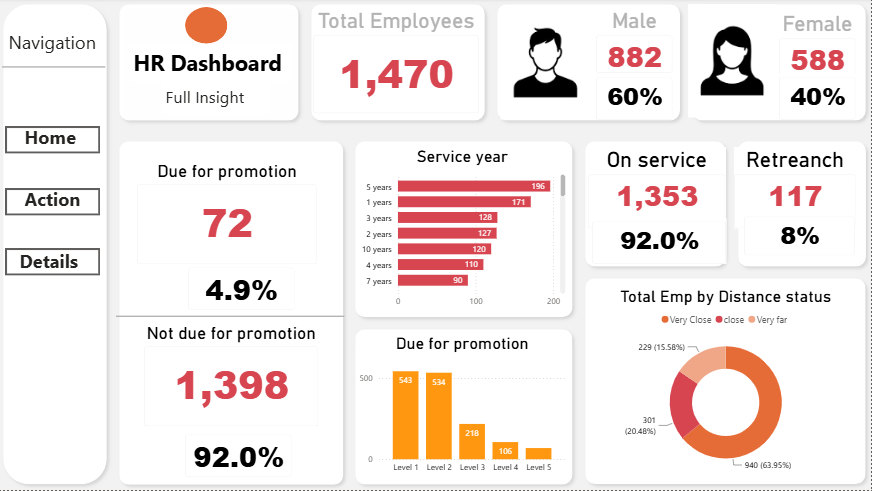

The dashboard page shown, as its layout file describes it:
{"tool":"powerbi","page":{"name":"Home","canvas":[1280,720],"ordinal":0},"visuals":[{"type":"shape","box":[0,0,169.7,720.6],"z":0},{"type":"shape","box":[169.7,0,280.5,188.1],"z":1000},{"type":"shape","box":[450.2,0,272.1,188.1],"z":2000},{"type":"shape","box":[1007.9,0,272.1,188.1],"z":3000},{"type":"shape","box":[722.3,0,285.6,188.1],"z":4000},{"type":"shape","box":[169.7,199.9,346,520.7],"z":5000},{"type":"shape","box":[515.7,199.9,336,275.5],"z":6000},{"type":"shape","box":[515.7,475.4,336,245.2],"z":7000},{"type":"shape","box":[851.7,199.9,223.4,201.6],"z":8000},{"type":"shape","box":[1075.1,199.9,204.9,201.6],"z":9000},{"type":"shape","box":[851.7,401.5,428.3,319.2],"z":10000},{"type":"textbox","box":[194.9,67.2,236.9,55.4],"z":11000},{"type":"textbox","box":[241.9,122.6,157.9,47],"z":12000},{"type":"shape","box":[275.5,13.4,62.2,53.8],"z":13000},{"type":"cardVisual","title":"Total Employees","fields":{"Data":["All Measures.Total Emp"]},"box":[461.9,15.1,243.6,154.5],"z":14000},{"type":"cardVisual","title":"Male","fields":{"Data":["All Measures.Male"]},"box":[876.9,15.1,112.5,95.7],"z":15000},{"type":"cardVisual","title":"Male","fields":{"Data":["All Measures.% male"]},"box":[876.9,110.9,112.5,67.2],"z":16000},{"type":"cardVisual","title":"Female","fields":{"Data":["All Measures.Female"]},"box":[1143.9,18.5,112.5,95.7],"z":17000},{"type":"cardVisual","title":"Male","fields":{"Data":["All Measures.% Female"]},"box":[1143.9,110.9,112.5,67.2],"z":18000},{"type":"image","box":[722.3,11.8,154.5,166.3],"z":19000},{"type":"image","box":[1007.9,8.4,136.1,166.3],"z":20000},{"type":"cardVisual","title":"Due for promotion","fields":{"Data":["All Measures.Due for promotion"]},"box":[204.9,238.5,263.7,151.2],"z":21000},{"type":"cardVisual","title":"Male","fields":{"Data":["All Measures.% Due for promotion"]},"box":[278.8,389.7,156.2,67.2],"z":22000},{"type":"cardVisual","title":"Not due for promotion","fields":{"Data":["All Measures.Not due"]},"box":[215,475.4,255.3,151.2],"z":23000},{"type":"cardVisual","title":"Male","fields":{"Data":["All Measures.% Not due"]},"box":[275.5,633.3,156.2,67.2],"z":24000},{"type":"shape","box":[174.7,456.9,334.3,18.5],"z":25000},{"type":"textbox","box":[35.2,179.7,100.8,53.8],"z":26000,"group":"g7"},{"type":"barChart","title":"Service year","fields":{"Category":["HR Analytics Data.Service year"],"Y":["All Measures.Total Emp"]},"box":[529.1,218.4,302.4,238.5],"z":26000},{"type":"textbox","box":[35.2,270.4,100.8,53.8],"z":27000,"group":"g5"},{"type":"columnChart","title":"Due for promotion","fields":{"Category":["HR Analytics Data.Job Levels"],"Y":["All Measures.Total Emp"]},"box":[529.1,492.2,302.4,208.3],"z":27000},{"type":"cardVisual","title":"On service","fields":{"Data":["All Measures.On Service"]},"box":[865.1,218.4,201.6,119.3],"z":28000},{"type":"textbox","box":[28.5,361.1,107.5,55.4],"z":28000,"group":"g6"},{"type":"actionButton","box":[11.7,186.4,139.4,40.3],"z":29000,"group":"g3"},{"type":"cardVisual","title":"Male","fields":{"Data":["All Measures.% On Service"]},"box":[870.1,322.5,196.5,67.2],"z":29000},{"type":"cardVisual","title":"Retreanch","fields":{"Data":["All Measures.Will Be Retrenched"]},"box":[1078.4,218.4,178.1,119.3],"z":30000},{"type":"actionButton","box":[11.7,277.1,139.4,40.3],"z":30000,"group":"g2"},{"type":"cardVisual","title":"Male","fields":{"Data":["All Measures.% Will Be Retrenched"]},"box":[1093.5,314.1,162.9,62.2],"z":31000},{"type":"actionButton","box":[11.7,364.4,139.4,40.3],"z":31000,"group":"g2"},{"type":"textbox","box":[11.7,40.3,139.4,52.1],"z":32000,"group":"g4"},{"type":"donutChart","title":"Total Emp by Distance status","fields":{"Series":["HR Analytics Data.Distance status"],"Category":["HR Analytics Data.Distance status"],"Y":["All Measures.Total Emp"]},"box":[876.9,423.3,379.6,277.2],"z":32000},{"type":"group","id":"g1","title":"Group 8","box":[6.7,40.3,151.2,376.3],"z":33000},{"type":"shape","box":[6.7,78.9,151.2,43.7],"z":33000,"group":"g8"},{"type":"group","id":"g2","title":"Group 1","box":[11.7,277.1,139.4,127.7],"z":33001,"group":"g3"},{"type":"group","id":"g3","title":"Group 2","box":[11.7,186.4,139.4,218.4],"z":33002,"group":"g4"},{"type":"group","id":"g4","title":"Group 3","box":[11.7,40.3,139.4,364.5],"z":33003,"group":"g5"},{"type":"group","id":"g5","title":"Group 4","box":[11.7,40.3,139.4,364.5],"z":33004,"group":"g6"},{"type":"group","id":"g6","title":"Group 5","box":[11.7,40.3,139.4,376.3],"z":33005,"group":"g7"},{"type":"group","id":"g7","title":"Group 6","box":[11.7,40.3,139.4,376.3],"z":33006,"group":"g8"},{"type":"group","id":"g8","title":"Group 7","box":[6.7,40.3,151.2,376.3],"z":33007,"group":"g1"}]}

Visuals, with their boxes in screenshot pixels (x1, y1, x2, y2), scaled from the page's 1280x720 canvas onto the 872x491 screenshot:
shape: [left=0, top=0, right=116, bottom=490]
shape: [left=116, top=0, right=307, bottom=128]
shape: [left=307, top=0, right=492, bottom=128]
shape: [left=687, top=0, right=871, bottom=128]
shape: [left=492, top=0, right=687, bottom=128]
shape: [left=116, top=136, right=351, bottom=490]
shape: [left=351, top=136, right=580, bottom=324]
shape: [left=351, top=324, right=580, bottom=490]
shape: [left=580, top=136, right=732, bottom=274]
shape: [left=732, top=136, right=871, bottom=274]
shape: [left=580, top=274, right=871, bottom=490]
textbox: [left=133, top=46, right=294, bottom=84]
textbox: [left=165, top=84, right=272, bottom=116]
shape: [left=188, top=9, right=230, bottom=46]
"Total Employees" cardVisual: [left=315, top=10, right=481, bottom=116]
"Male" cardVisual: [left=597, top=10, right=674, bottom=76]
"Male" cardVisual: [left=597, top=76, right=674, bottom=121]
"Female" cardVisual: [left=779, top=13, right=856, bottom=78]
"Male" cardVisual: [left=779, top=76, right=856, bottom=121]
image: [left=492, top=8, right=597, bottom=121]
image: [left=687, top=6, right=779, bottom=119]
"Due for promotion" cardVisual: [left=140, top=163, right=319, bottom=266]
"Male" cardVisual: [left=190, top=266, right=296, bottom=312]
"Not due for promotion" cardVisual: [left=146, top=324, right=320, bottom=427]
"Male" cardVisual: [left=188, top=432, right=294, bottom=478]
shape: [left=119, top=312, right=347, bottom=324]
textbox: [left=24, top=123, right=93, bottom=159]
"Service year" barChart: [left=360, top=149, right=566, bottom=312]
textbox: [left=24, top=184, right=93, bottom=221]
"Due for promotion" columnChart: [left=360, top=336, right=566, bottom=478]
"On service" cardVisual: [left=589, top=149, right=727, bottom=230]
textbox: [left=19, top=246, right=93, bottom=284]
actionButton: [left=8, top=127, right=103, bottom=155]
"Male" cardVisual: [left=593, top=220, right=727, bottom=266]
"Retreanch" cardVisual: [left=735, top=149, right=856, bottom=230]
actionButton: [left=8, top=189, right=103, bottom=216]
"Male" cardVisual: [left=745, top=214, right=856, bottom=257]
actionButton: [left=8, top=249, right=103, bottom=276]
textbox: [left=8, top=27, right=103, bottom=63]
"Total Emp by Distance status" donutChart: [left=597, top=289, right=856, bottom=478]
"Group 8" group: [left=5, top=27, right=108, bottom=284]
shape: [left=5, top=54, right=108, bottom=84]
"Group 1" group: [left=8, top=189, right=103, bottom=276]
"Group 2" group: [left=8, top=127, right=103, bottom=276]
"Group 3" group: [left=8, top=27, right=103, bottom=276]
"Group 4" group: [left=8, top=27, right=103, bottom=276]
"Group 5" group: [left=8, top=27, right=103, bottom=284]
"Group 6" group: [left=8, top=27, right=103, bottom=284]
"Group 7" group: [left=5, top=27, right=108, bottom=284]
